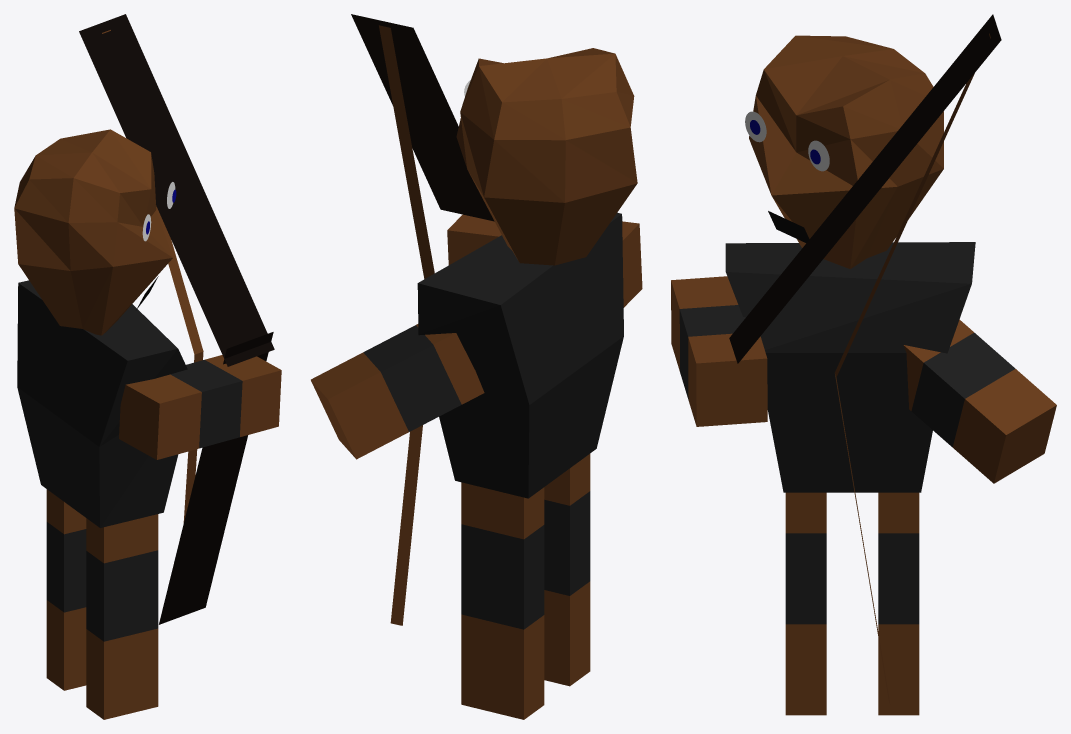
File: archer3f.obj
The picture shows the model from 3 angles, left to right: view 1: azimuth 30°, elevation 25°; view 2: azimuth 150°, elevation 25°; view 3: azimuth 270°, elevation 25°; orthographic projection. The views are drawn at different scales.
Parts seen in each view (by area): view 1: Cube.001, Cube, Plane.002_Plane.003, Cube.004, Cube.003, Plane.001_Plane.002, Cube.005, Plane.003_Plane.004; view 2: Cube.001, Cube, Cube.005, Cube.002, Cube.004, Plane.002_Plane.003, Plane.003_Plane.004, Cube.003; view 3: Cube.001, Cube, Cube.002, Cube.003, Plane.002_Plane.003, Cube.004, Cube.005, Plane.003_Plane.004.
Boxes of the visible parts, bbox=[...] form: Cube.001: bbox=[17, 280, 187, 527]; Cube: bbox=[14, 129, 172, 335]; Plane.002_Plane.003: bbox=[79, 14, 274, 366]; Cube.004: bbox=[86, 514, 158, 719]; Cube.003: bbox=[119, 355, 281, 459]; Plane.001_Plane.002: bbox=[159, 332, 273, 624]; Cube.005: bbox=[46, 489, 86, 690]; Plane.003_Plane.004: bbox=[102, 30, 203, 522]; Cube.001: bbox=[417, 212, 623, 498]; Cube: bbox=[456, 48, 637, 265]; Cube.005: bbox=[461, 482, 544, 719]; Cube.002: bbox=[311, 324, 484, 459]; Cube.004: bbox=[544, 454, 590, 686]; Plane.002_Plane.003: bbox=[351, 14, 494, 221]; Plane.003_Plane.004: bbox=[379, 25, 434, 625]; Cube.003: bbox=[447, 214, 642, 307]; Cube.001: bbox=[725, 242, 975, 492]; Cube: bbox=[749, 35, 943, 268]; Cube.002: bbox=[903, 319, 1056, 483]; Cube.003: bbox=[671, 276, 767, 426]; Plane.002_Plane.003: bbox=[729, 14, 1001, 363]; Cube.004: bbox=[785, 492, 826, 715]; Cube.005: bbox=[878, 492, 919, 715]; Plane.003_Plane.004: bbox=[835, 33, 990, 704].
Size of the model in its own units: 2.42 by 6.6 by 3.26.
